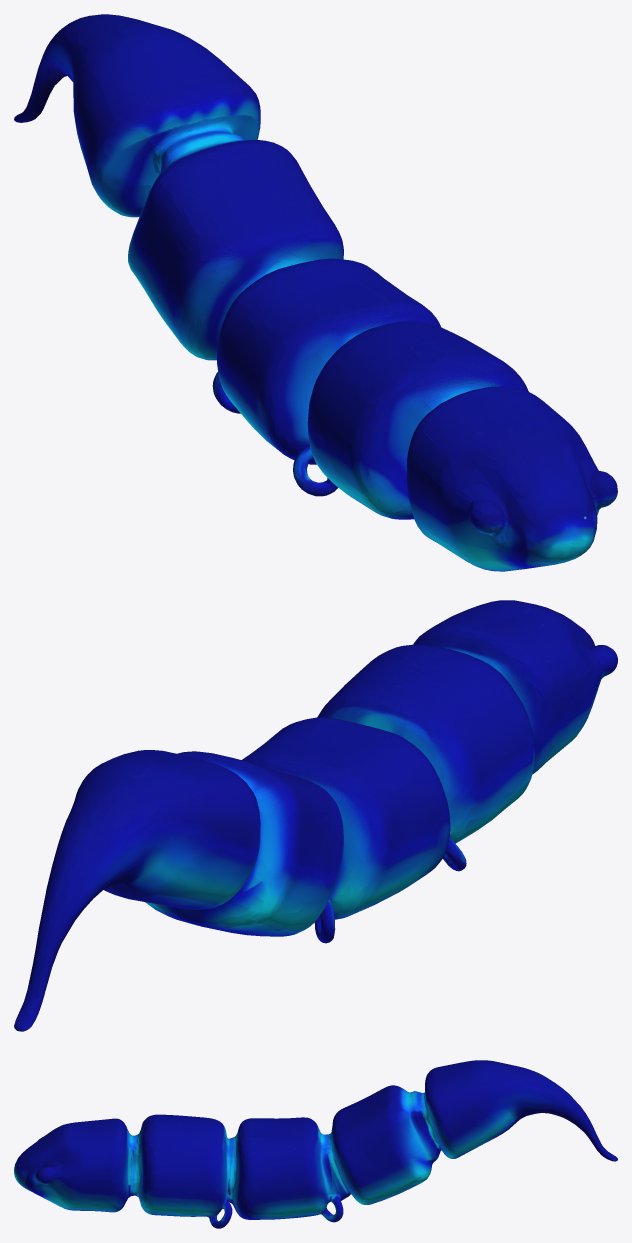
Rendered from predator_worm.glb.
The picture shows the model from 3 angles, top to bottom: view 1: azimuth 30°, elevation 25°; view 2: azimuth 150°, elevation 25°; view 3: azimuth 270°, elevation 25°; orthographic projection. The views are drawn at different scales.
Bounding box in the file's own units: 0.3663 × 0.5044 × 1.9.
Materials: 1 (1 with a texture image).
